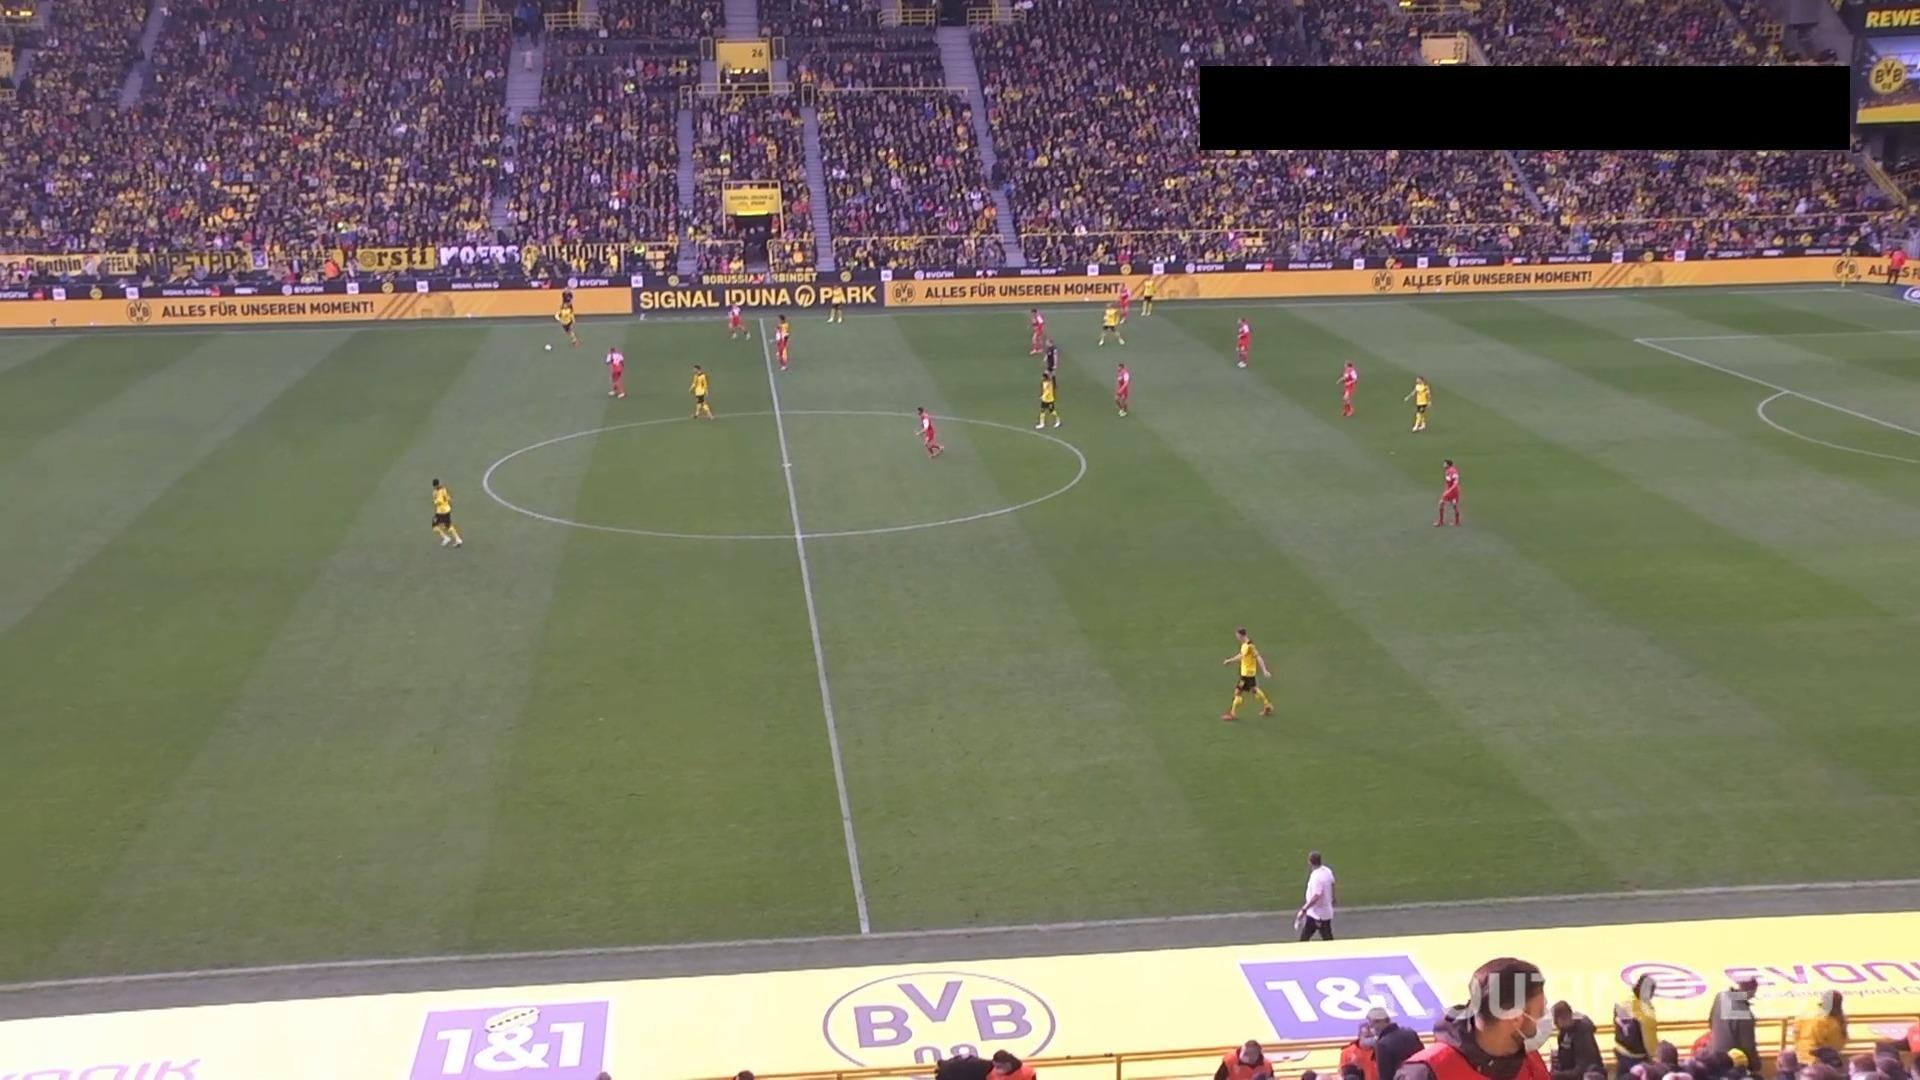ball: (545, 343, 553, 352)
